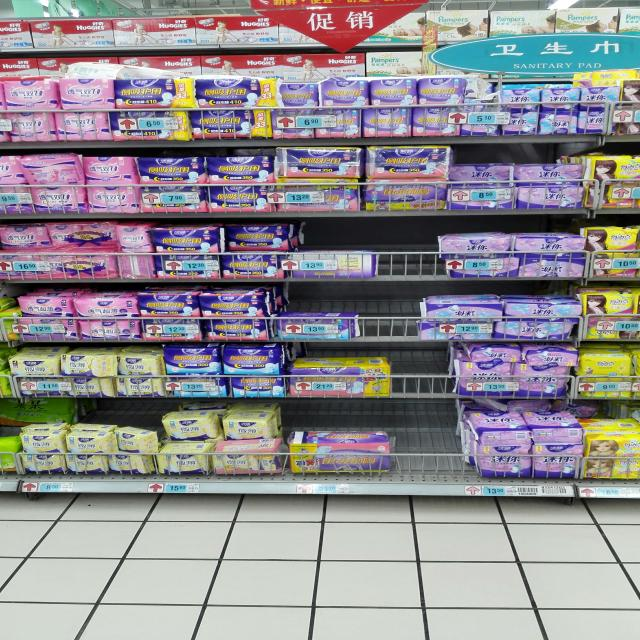void: (396, 403, 459, 474), (357, 284, 417, 339), (382, 220, 434, 279), (394, 343, 446, 394)
